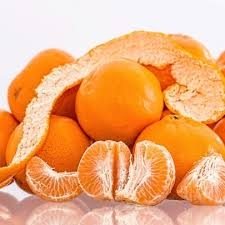kitchen_waste: (76, 53, 166, 142), (6, 111, 88, 196), (5, 46, 81, 122), (164, 56, 223, 123), (77, 137, 134, 202), (23, 152, 87, 203), (130, 140, 177, 207), (173, 149, 225, 208)
